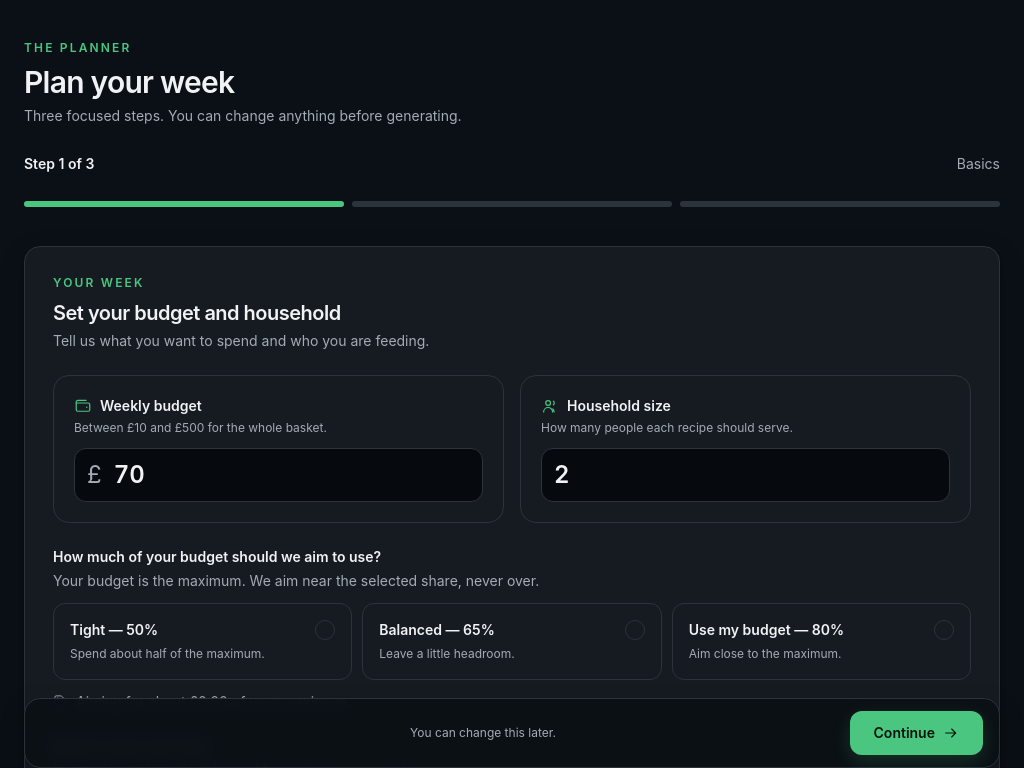
Scenario: App › blocks submission and marks the field when the budget is invalid
Replace the text in the number field labelled "Weekly budget" with "5". click: (292, 475)
box: top-left (102, 449), bottom-right (482, 501)
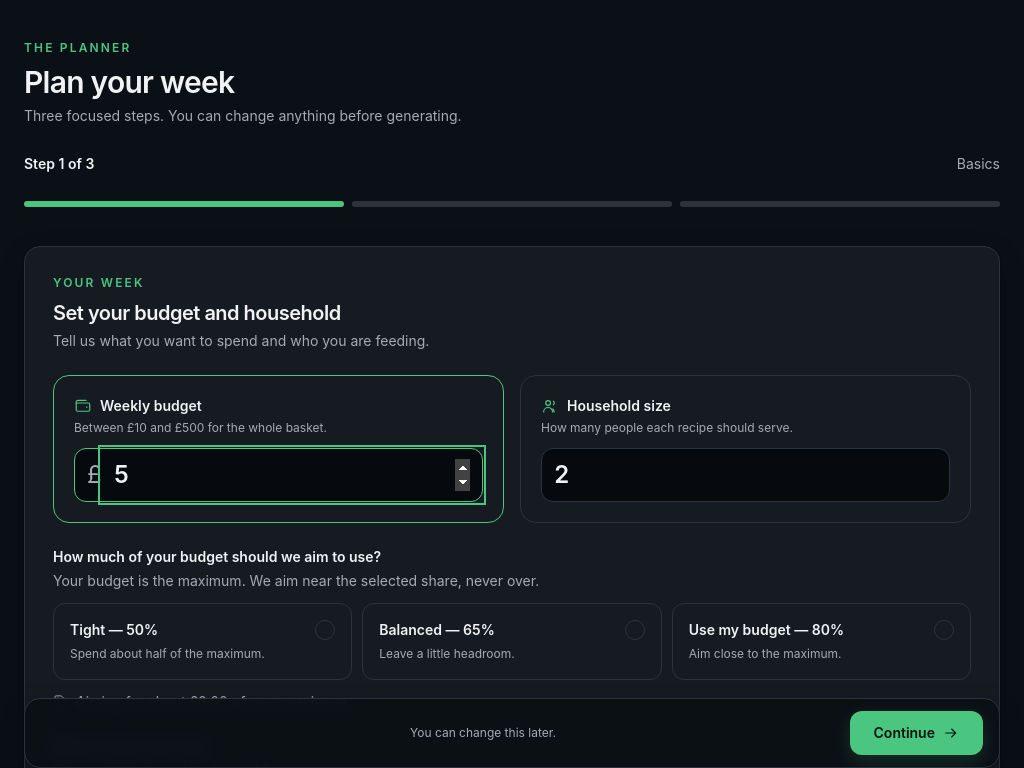
Click the button "Continue". click: (916, 733)
box: top-left (850, 711), bottom-right (983, 755)
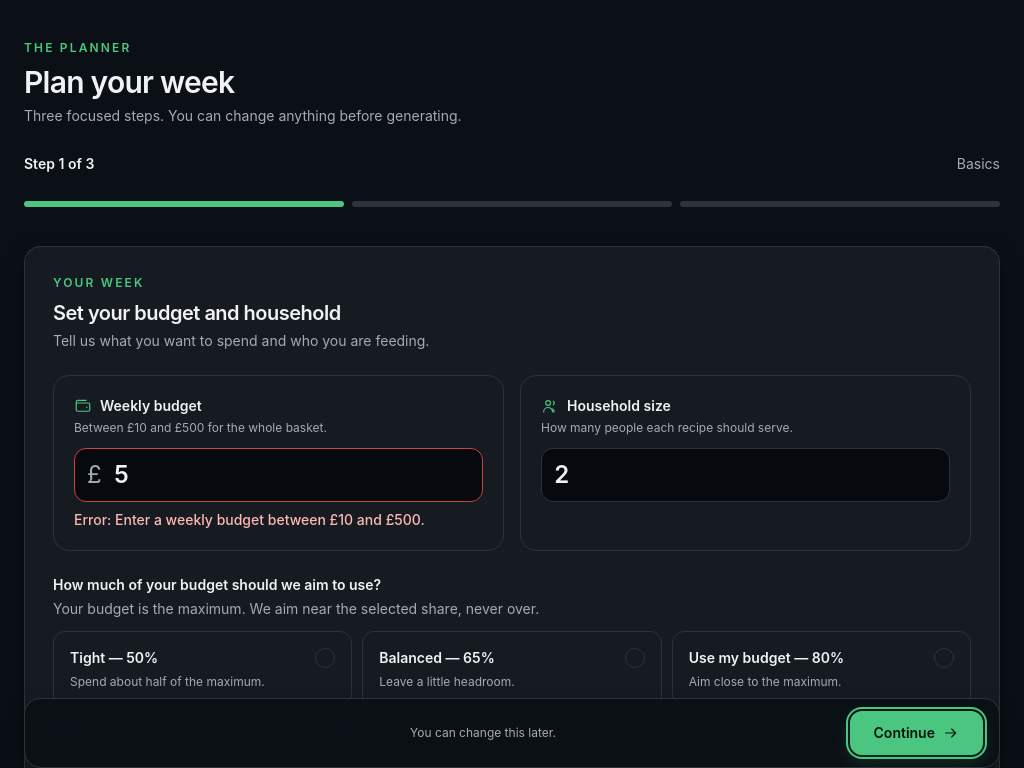
Expected: the text "Error: Enter a weekly budget between £10 and £500." is shown, top-left (74, 510), bottom-right (483, 530)
